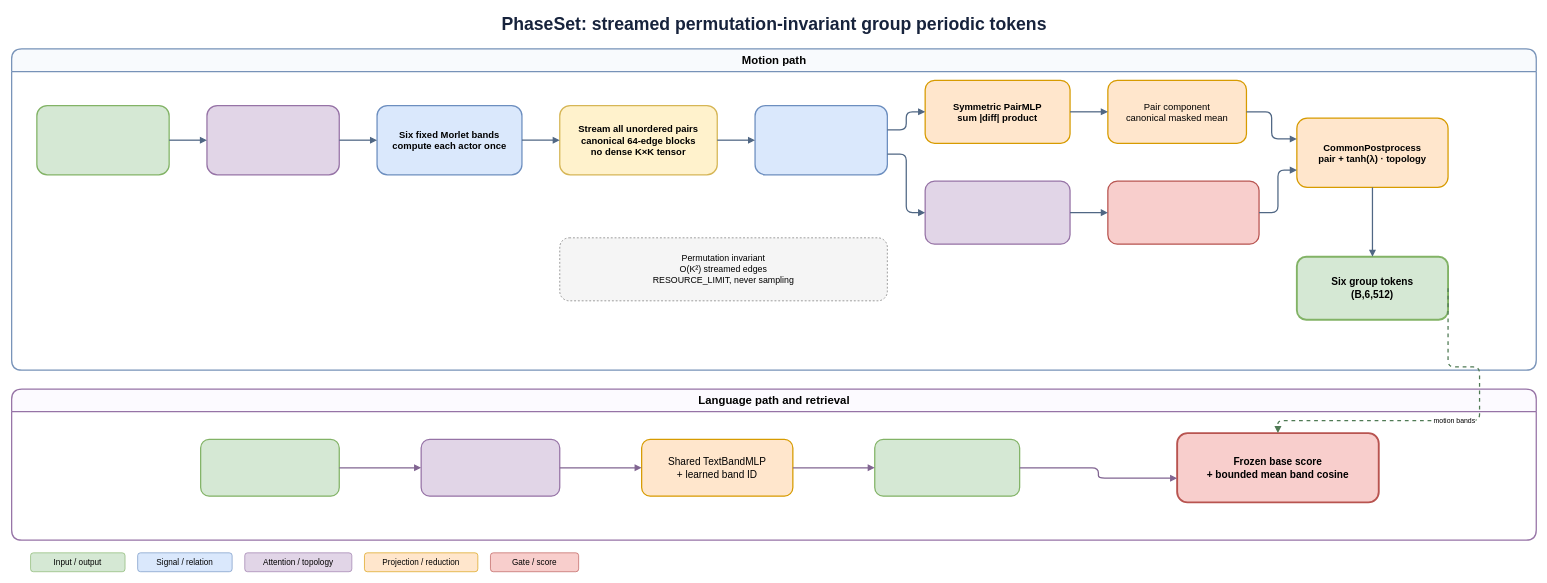
The diagram is 1547 pixels wide and 583 high, and some of its shapes have lost their labels. Here are the shapes that lost their labels. From the top down, the centre of each, then its label:
At point 102,140: "Group skeletons (B,K,T,22,3) dynamic actor mask".
At point 273,140: "Shared actor motion encoder no actor IDs".
At point 821,140: "Directed 13D relations uᵢⱼ, uⱼᵢ".
At point 997,212: "Incident moments Δmean, M2, coverage, missing".
At point 1183,212: "NodeMLP + hard gate K=2: exact +0 and zero grad".
At point 270,467: "Human group text".
At point 490,467: "Frozen CLIP text tower".
At point 947,467: "Six semantic text-band tokens".
